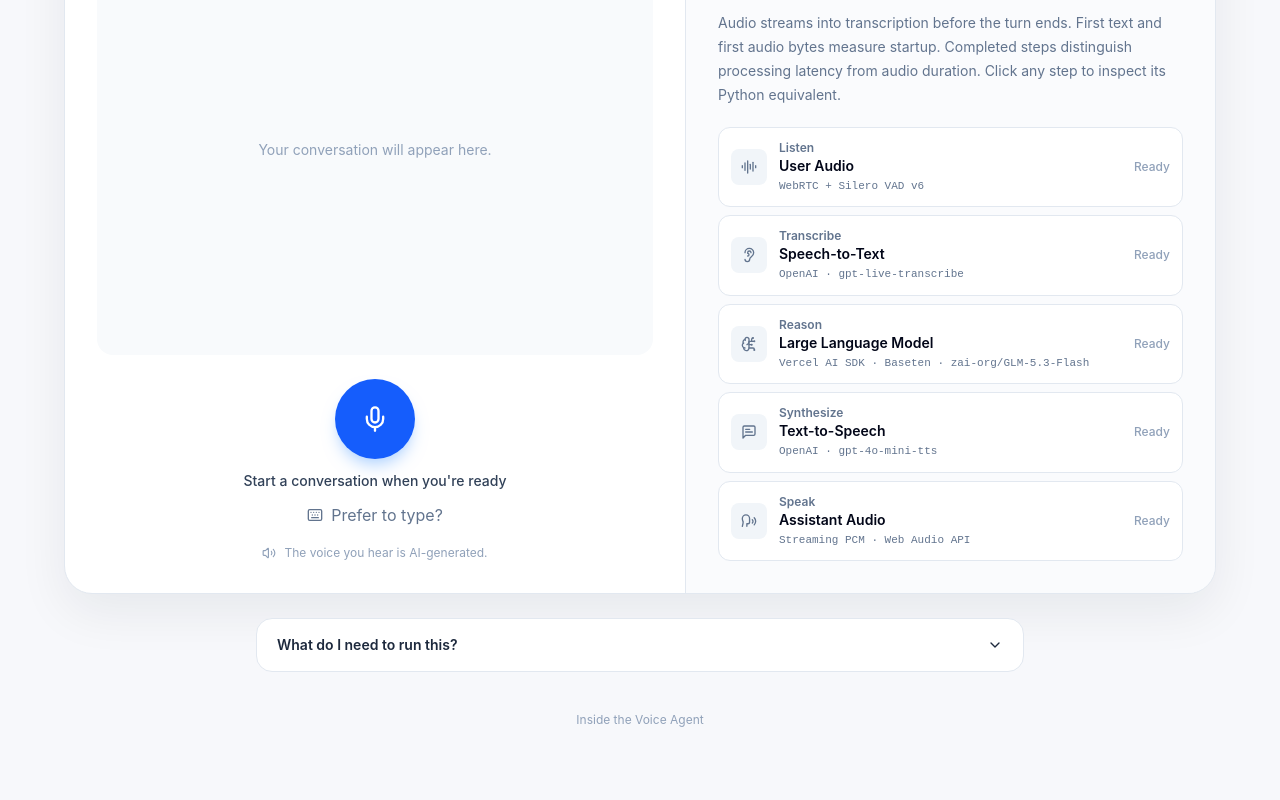
it: AppShell › sends earlier turns as conversation memory
The image size is (1280, 800).
(page scrolled)
Step 1. Click the button "Prefer to type?" → (375, 515), box [307, 503, 443, 527]
(page scrolled)
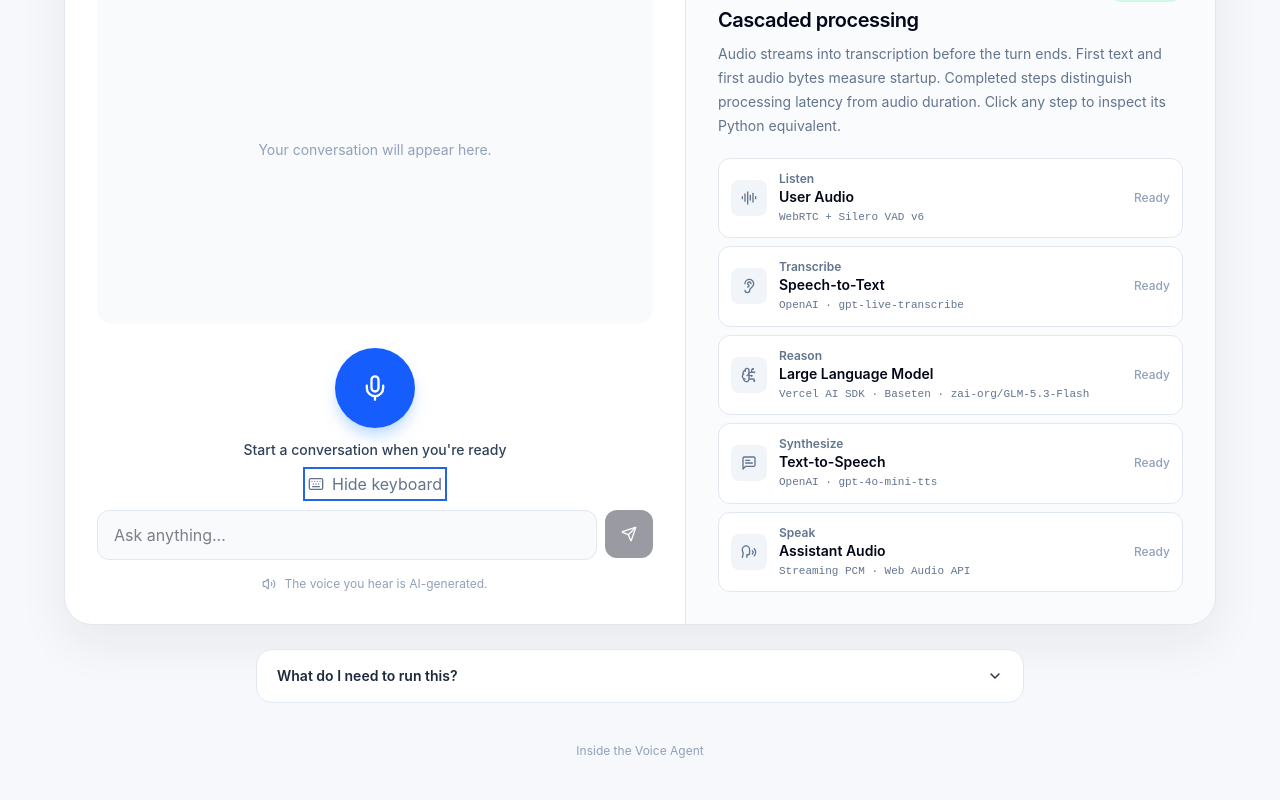
Step 2. Type "My name is Ada" into the field named "Message the voice agent" → (347, 535), box [97, 510, 597, 560]
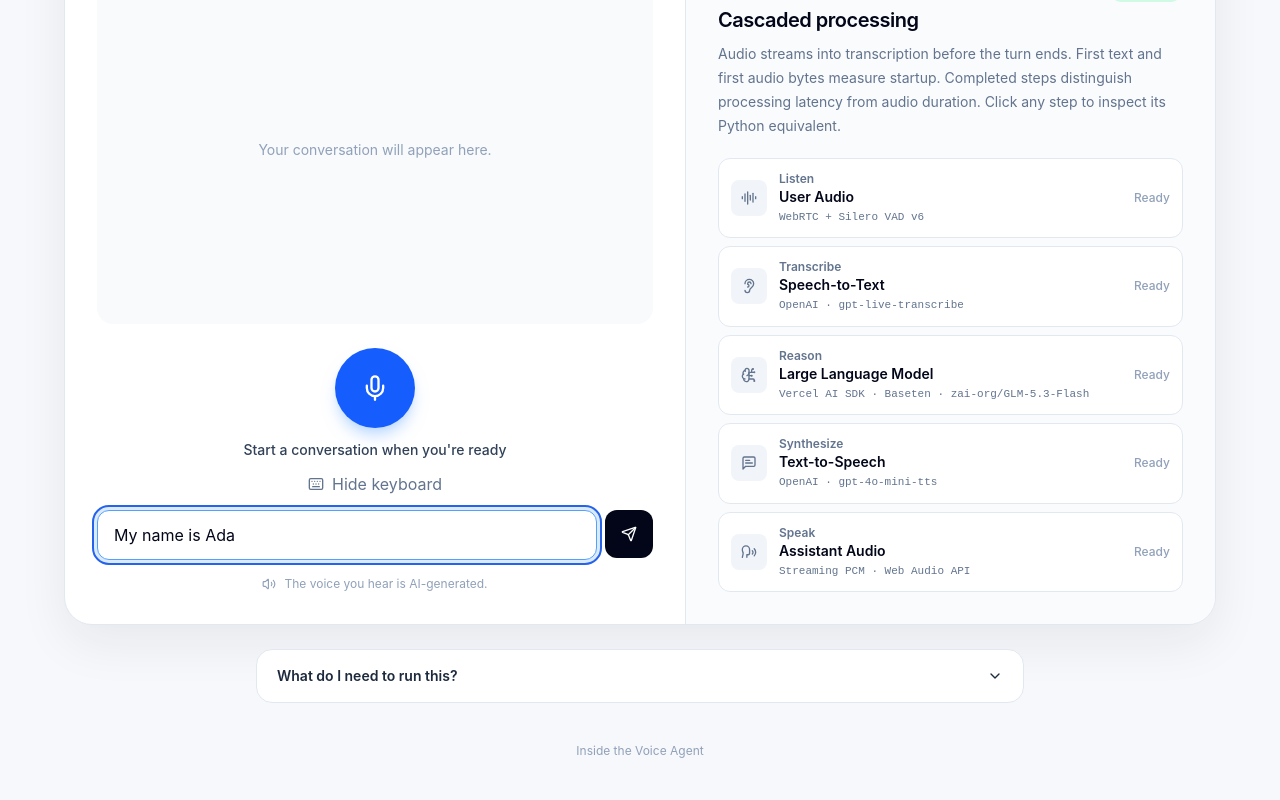
Step 3. Click the button named "Send message" → (629, 534), box [605, 510, 653, 558]
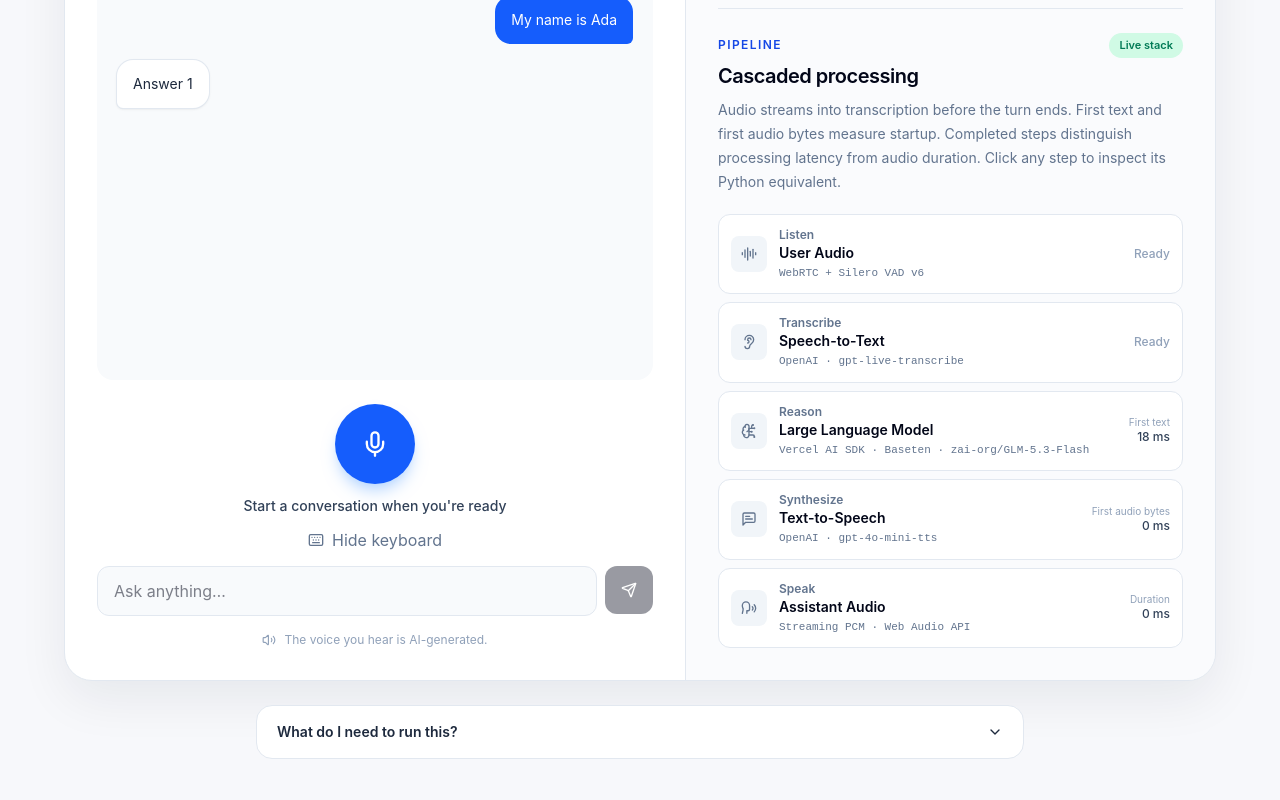
Expected: the text "Start a conversation when you're ready" is shown, [244, 497, 506, 514]
Result: the text "Answer 1" is shown at [117, 60, 209, 108]
Step 4. Type "What is my name?" into the field named "Message the voice agent" → (347, 591), box [97, 566, 597, 616]
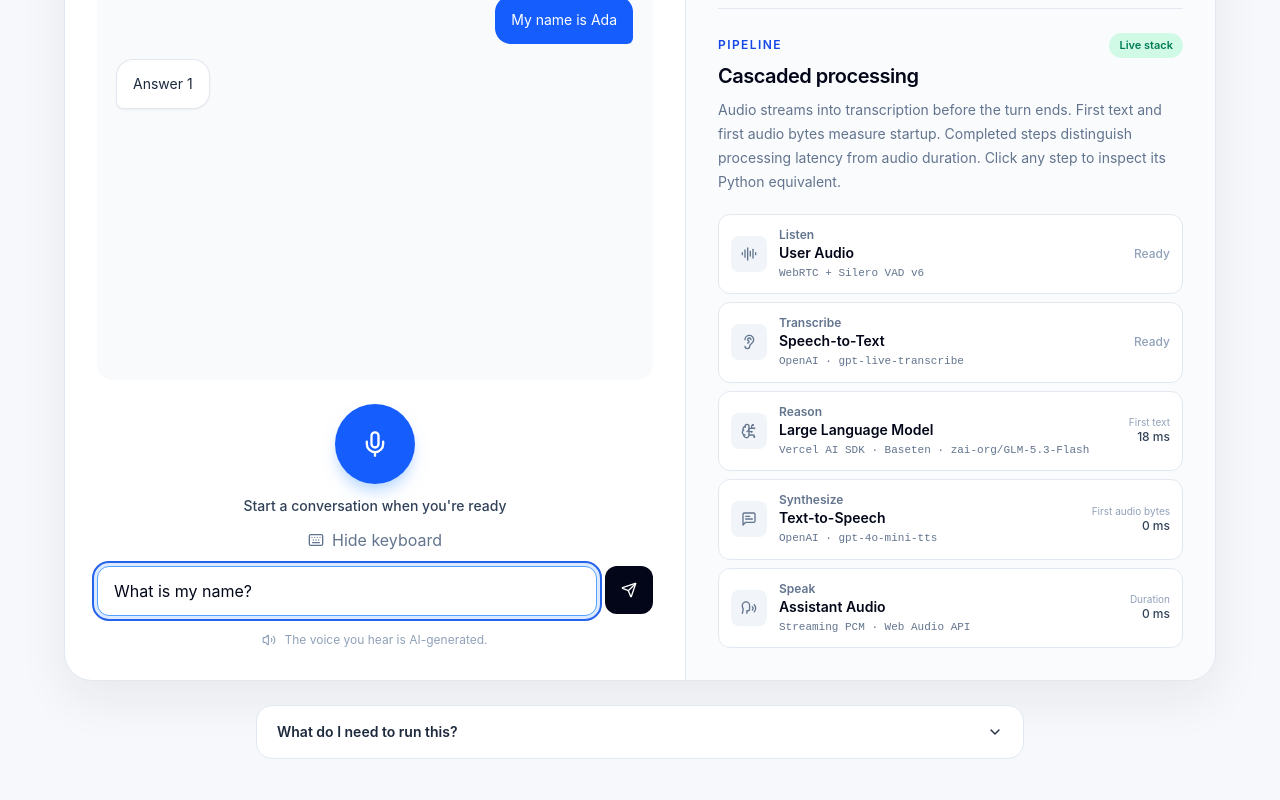
Step 5. Click the button named "Send message" → (629, 590), box [605, 566, 653, 614]
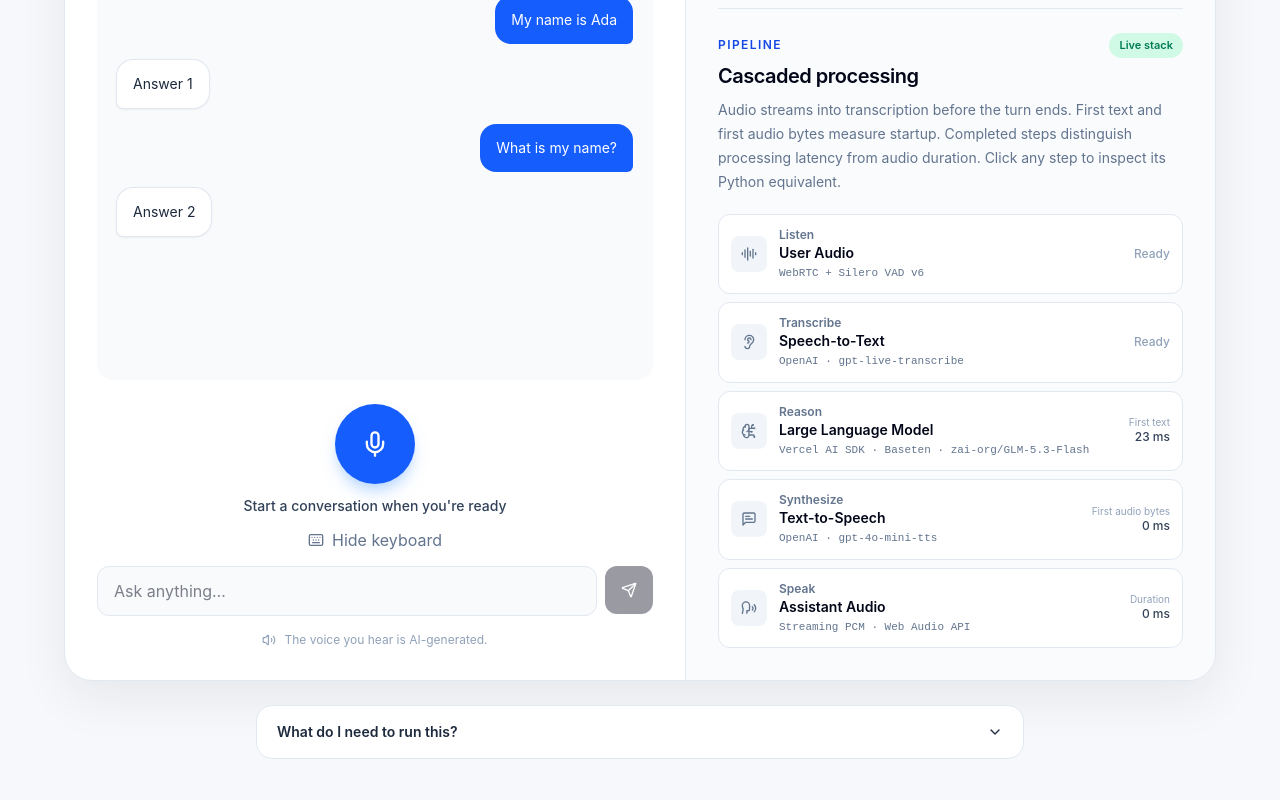
Expected: the text "Start a conversation when you're ready" is shown, [244, 497, 506, 514]
Result: the text "Answer 2" is shown at [117, 188, 211, 236]
